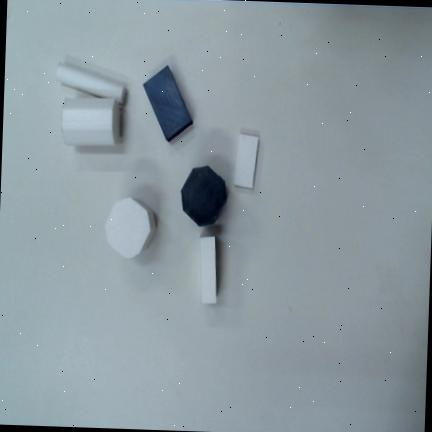Cilindro: (56, 65, 126, 104)
Paralelepipedo: (143, 67, 194, 143), (234, 134, 259, 188), (200, 237, 216, 304)
Prisma_hexagonal: (105, 198, 156, 259), (180, 166, 227, 226), (62, 98, 120, 145)
